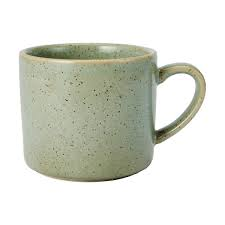mug: (18, 35, 212, 189)
